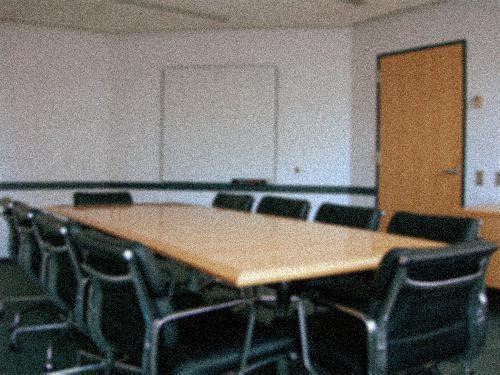Puerta: (382, 53, 468, 209)
